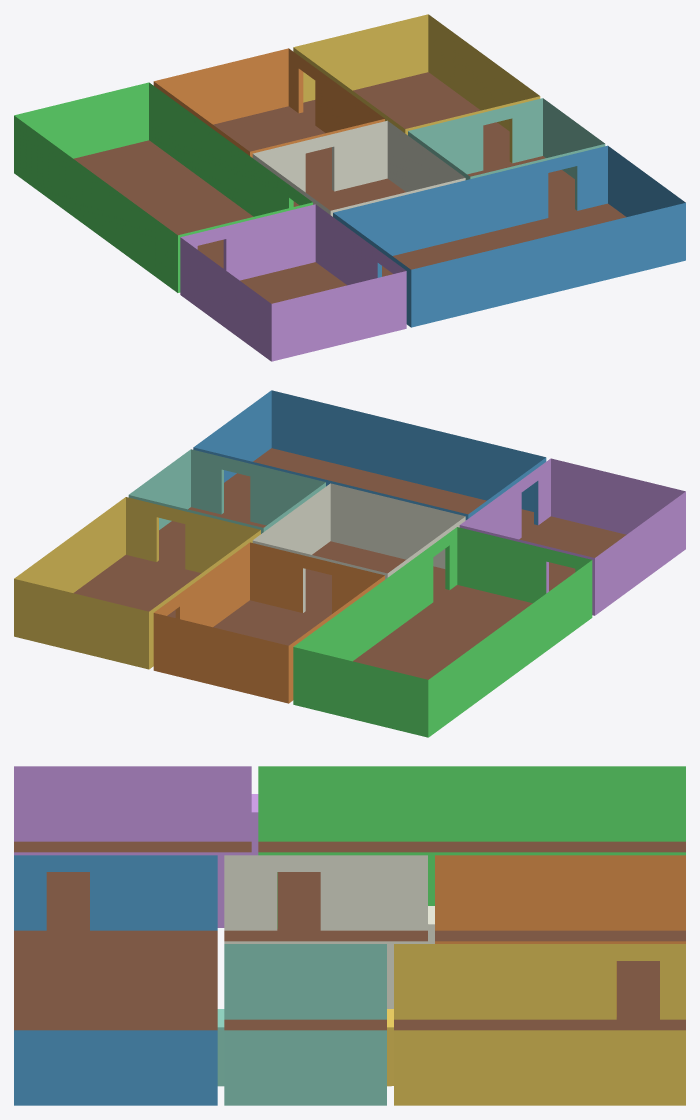
Rendered from Casa_grande.fbx.
3 renders of one model, top to bottom at view 1: azimuth 30°, elevation 25°; view 2: azimuth 150°, elevation 25°; view 3: azimuth 270°, elevation 25°, orthographic. The views are drawn at different scales.
Visible parts, largest first — view 1: Casa+porte; view 2: Casa+porte; view 3: Casa+porte.
Boxes of the visible parts, x1,y1,x2,y2 form: Casa+porte: [14, 14, 685, 361]; Casa+porte: [14, 390, 685, 737]; Casa+porte: [14, 766, 685, 1105].
Bounding box in the file's own units: 2178 × 270 × 2024.
